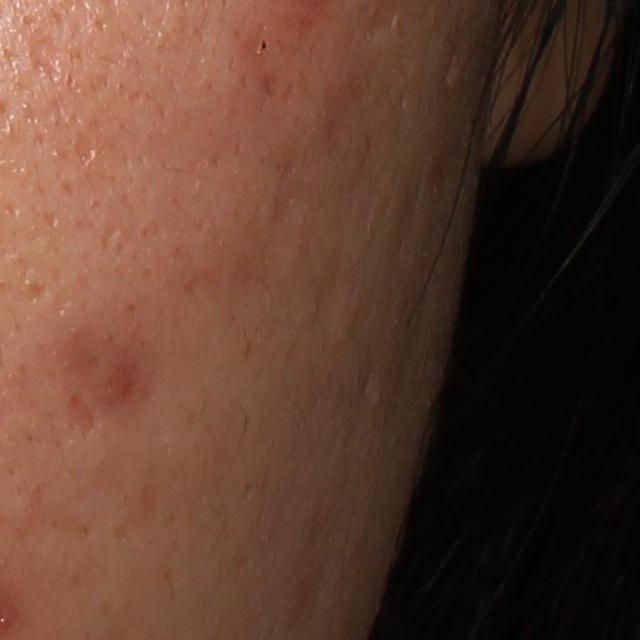atrophic_scar: (10, 12, 70, 86), (68, 391, 100, 439), (72, 130, 95, 165), (21, 280, 49, 298)
